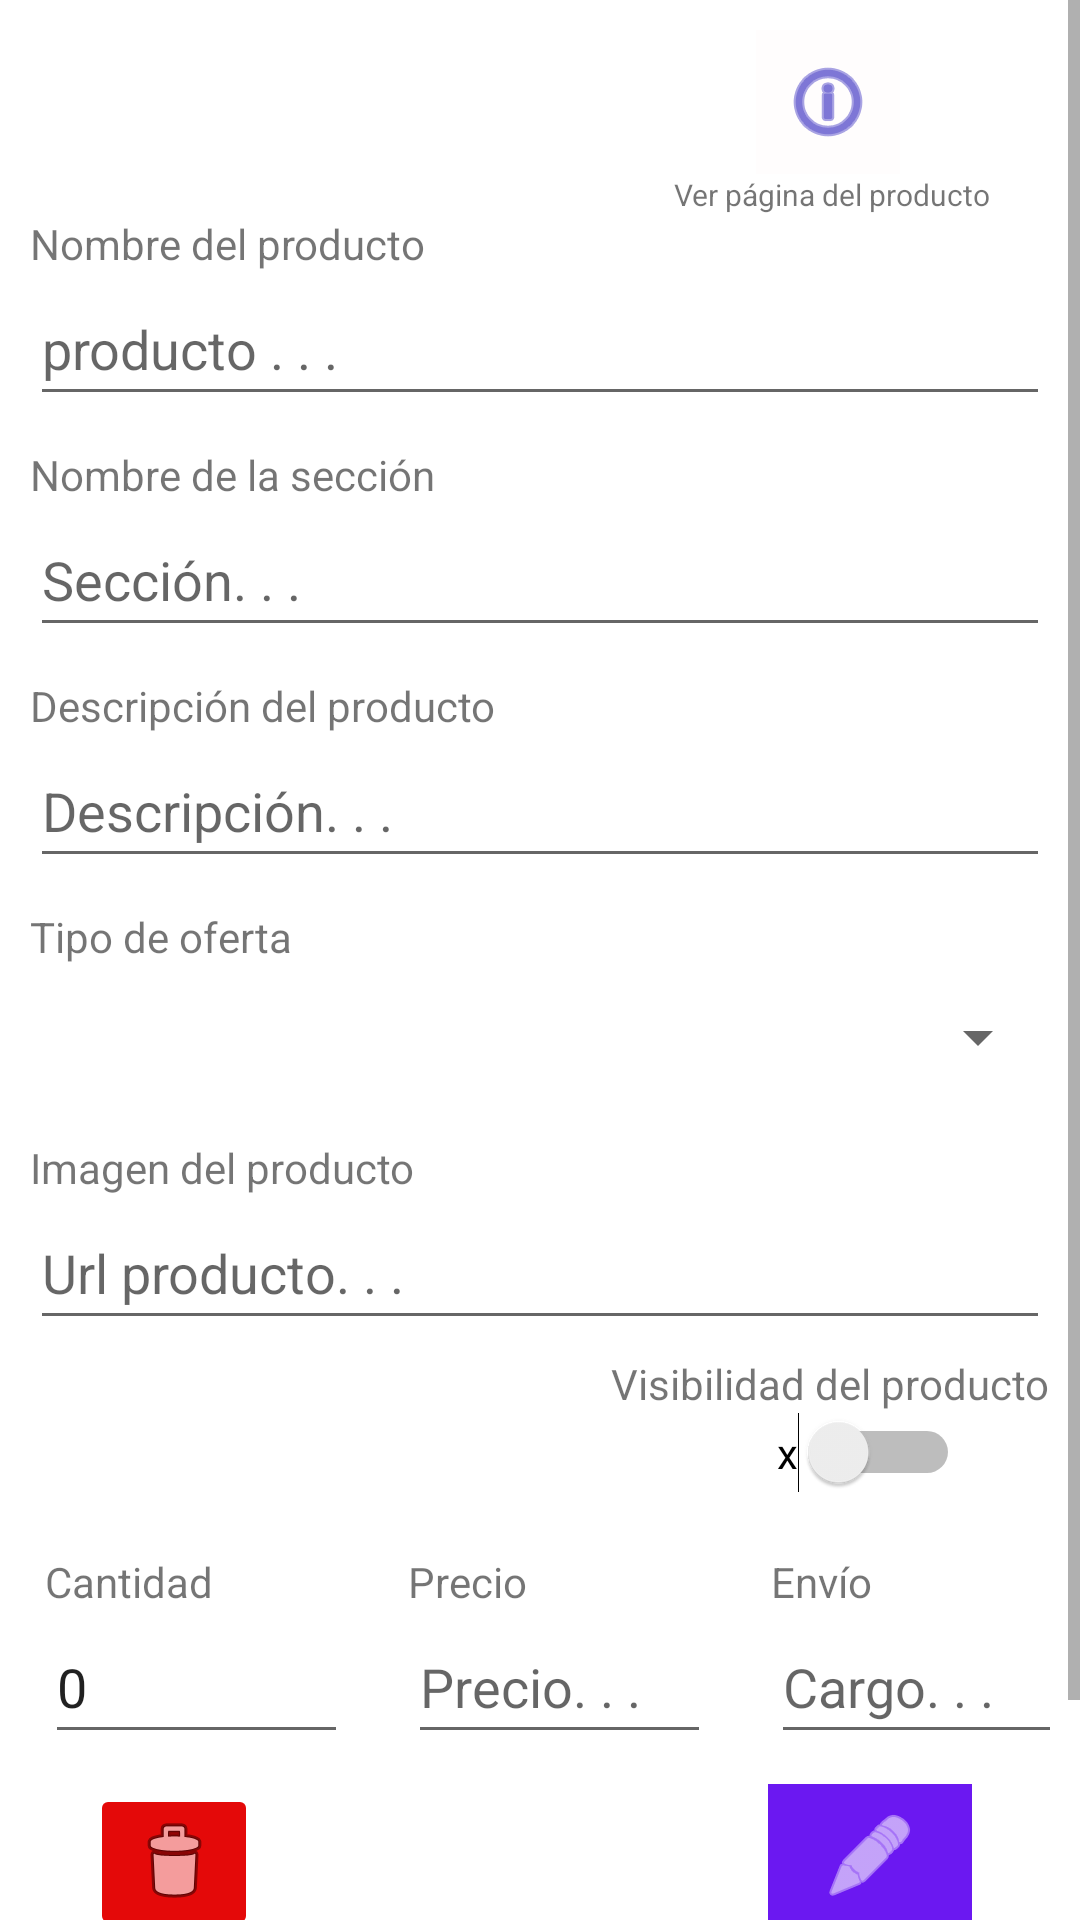

Icons on this 1080px×1920px Android screen, each with the point to tap as [x,y]:
edit: [870,1852]
info details: [828,102]
